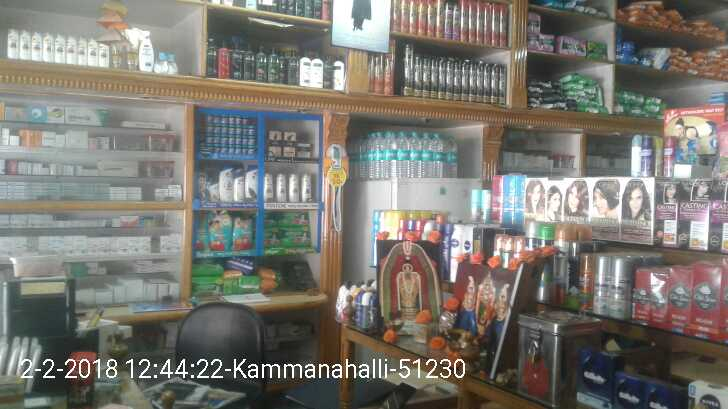beauty: (219, 162, 232, 201), (245, 164, 258, 202), (233, 174, 245, 203), (301, 171, 312, 201), (289, 171, 300, 201), (264, 173, 274, 202), (278, 174, 287, 202), (269, 129, 282, 146), (284, 131, 296, 145), (283, 145, 296, 157)
pharmacy: (208, 209, 233, 251), (233, 216, 254, 248), (280, 227, 311, 247)
